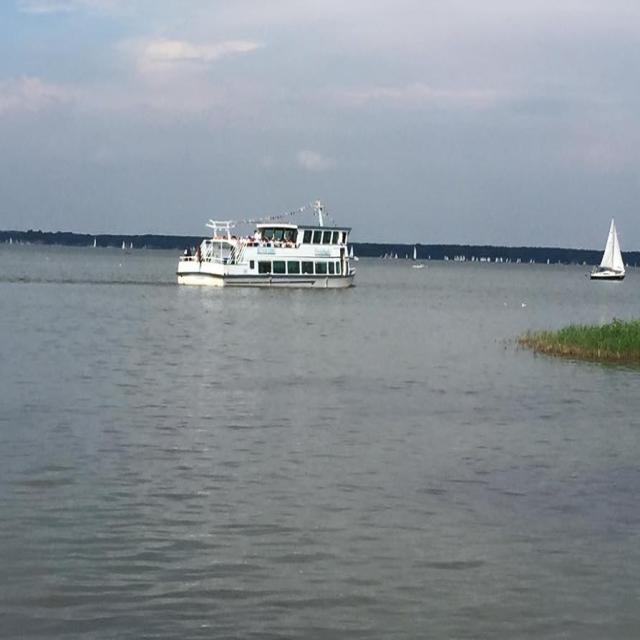houseboat: (180, 200, 364, 294)
sailboat: (580, 208, 625, 292)
